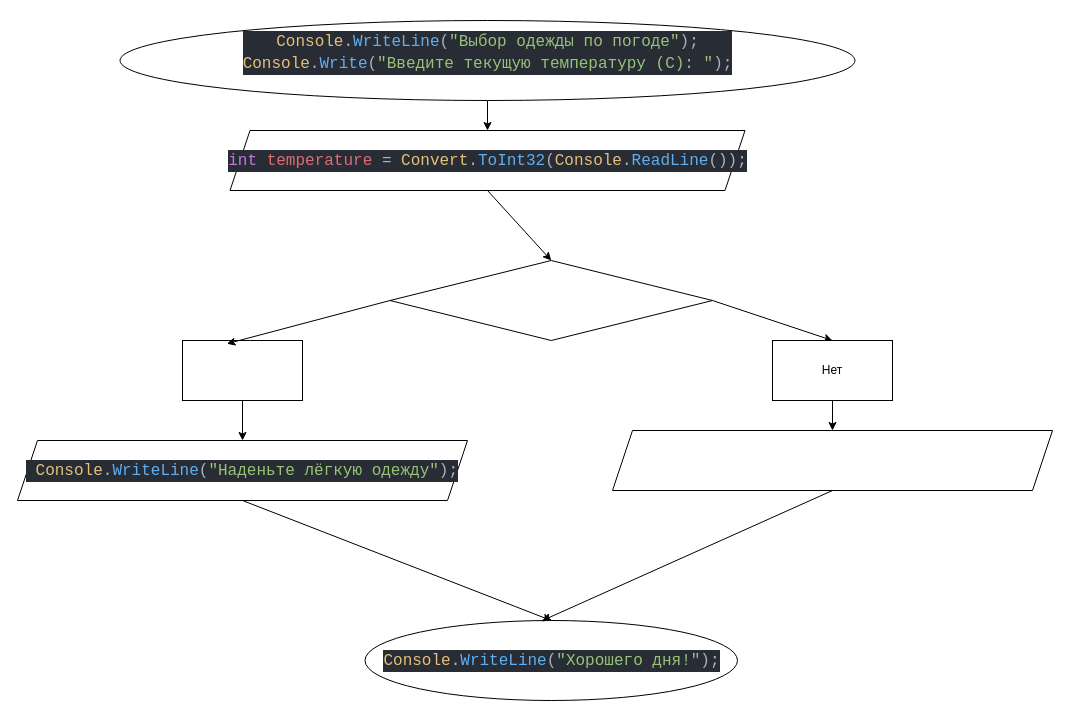
Image size: 1070x718. Some labels were removed from this diagram. The centre of each missing label's shape, as x and y in pixels:
Console . WriteLine ( "Наденьте тёплую одежду" );: point 832,460
if ( temperature >= 20 ): point 550,300
Да: point 242,370
